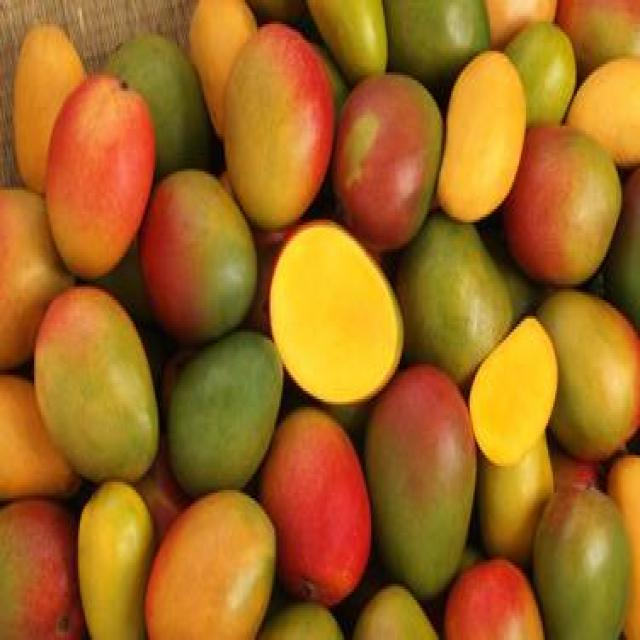mango: (366, 364, 477, 582), (35, 282, 160, 471), (43, 72, 154, 270), (262, 405, 374, 595), (219, 16, 327, 208), (144, 492, 288, 636), (333, 71, 441, 249), (504, 127, 620, 283), (148, 161, 256, 327), (168, 336, 287, 478)
